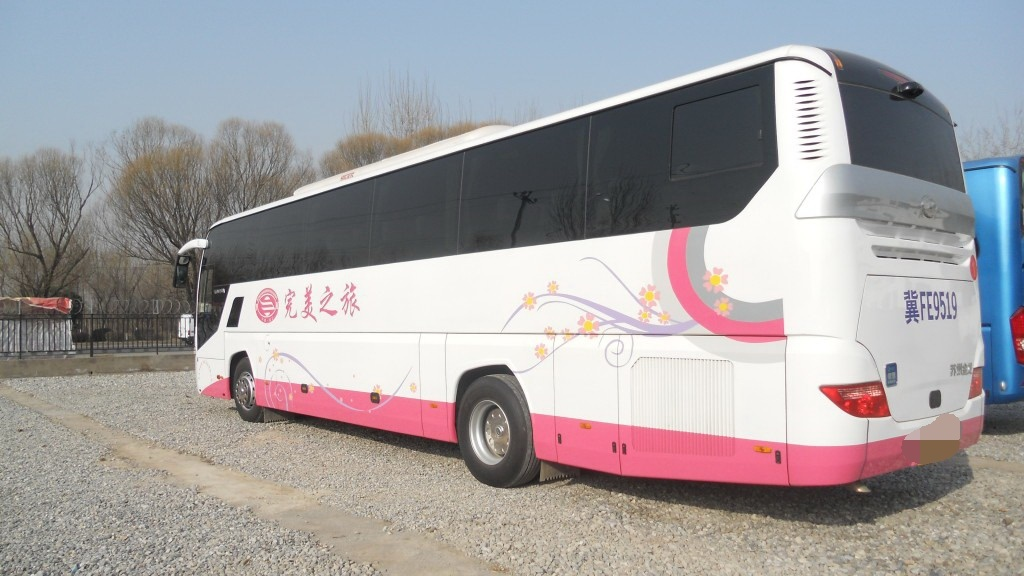bus: (155, 54, 993, 504)
